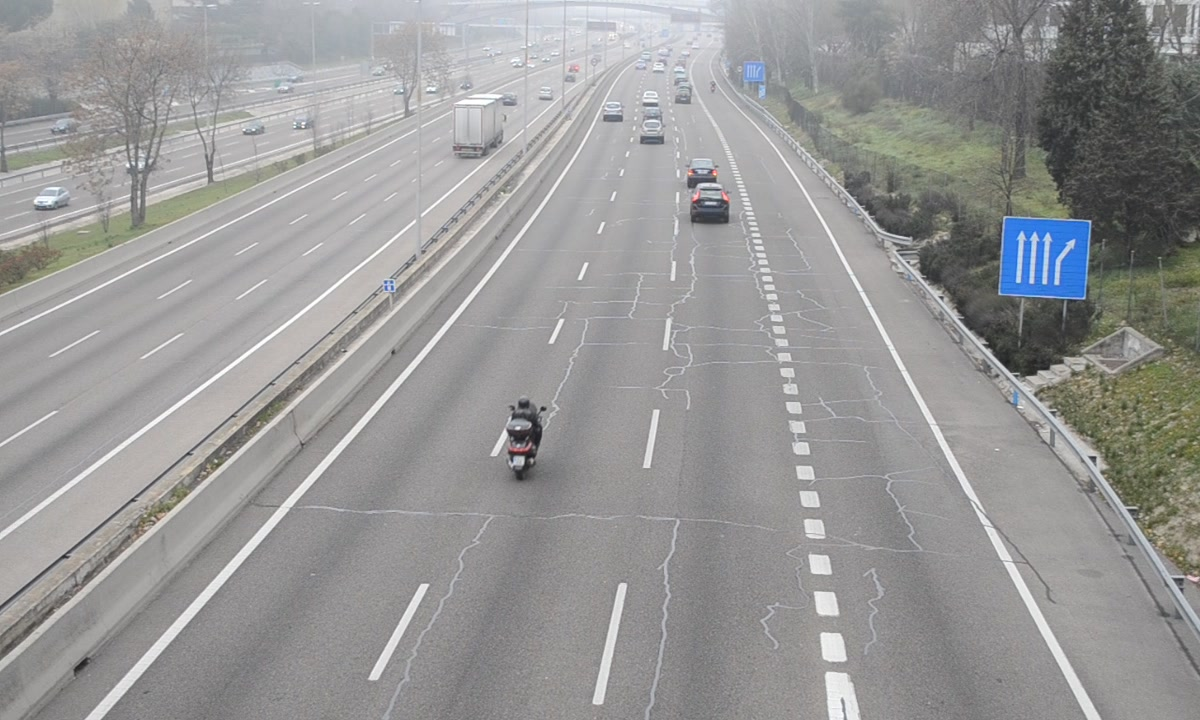car: (689, 183, 731, 223), (685, 158, 718, 186), (638, 118, 665, 145)
motorcycle: (506, 395, 545, 480)
